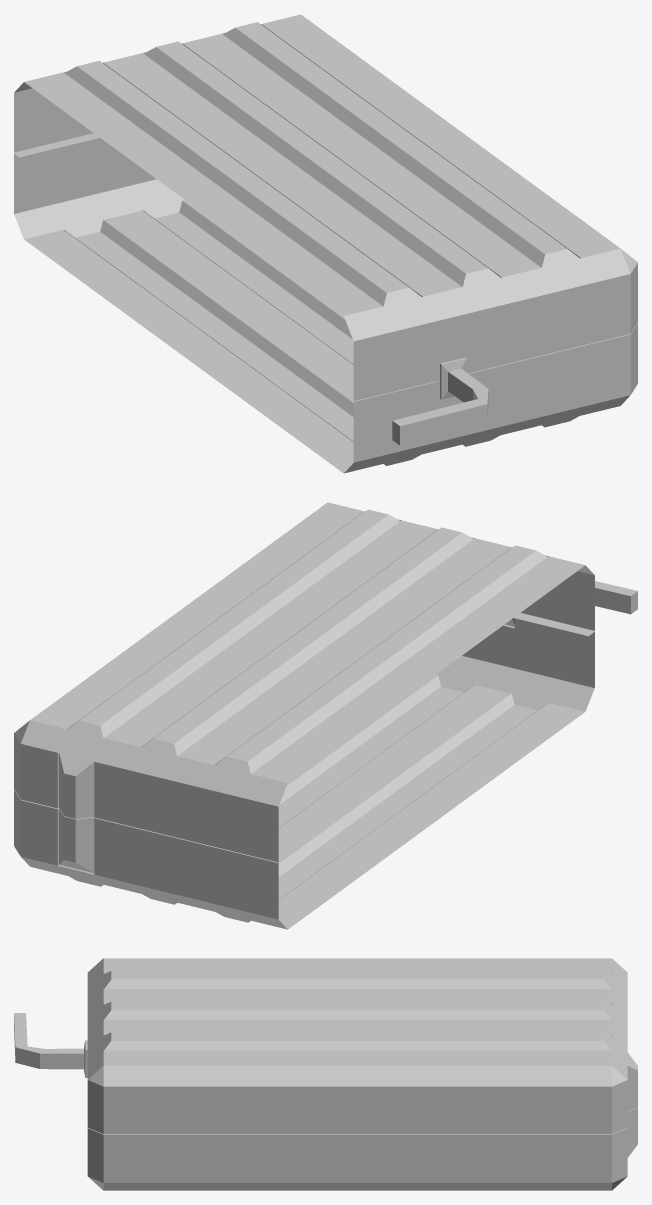
File: briefcase3.gltf
3 views of the same model, one above another, from view 1: azimuth 30°, elevation 25°; view 2: azimuth 150°, elevation 25°; view 3: azimuth 270°, elevation 25° (orthographic). The views are drawn at different scales.
Parts seen in each view (by area): view 1: Cube; view 2: Cube; view 3: Cube.
Boxes of the visible parts, box(x1,y1,x2,y2) form: Cube: box(14, 14, 637, 473); Cube: box(14, 502, 637, 929); Cube: box(14, 958, 637, 1190).
Size of the model in its own units: 1 by 0.5588 by 2.31.
Materials: 1 (1 with a texture image).
